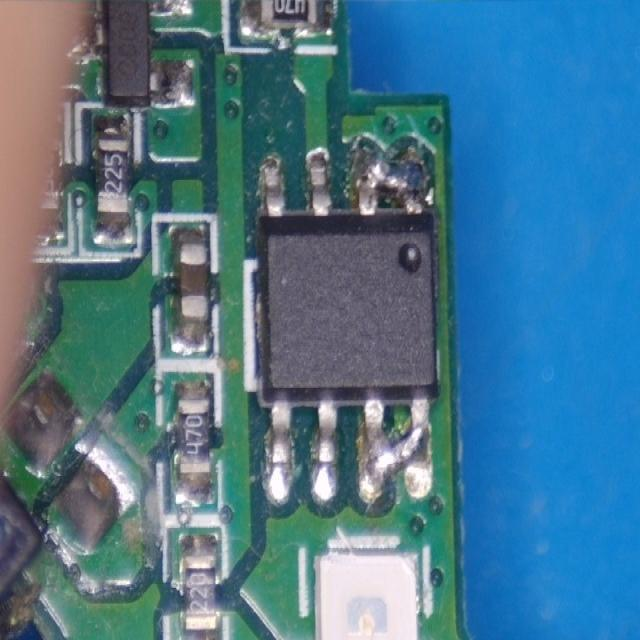Short_circuit: (364, 399, 432, 498), (355, 149, 424, 215)
